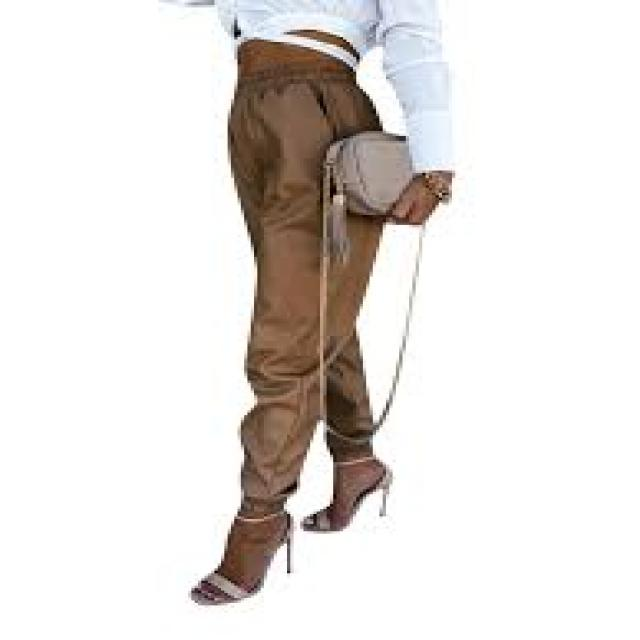long-pants: (232, 70, 380, 502)
